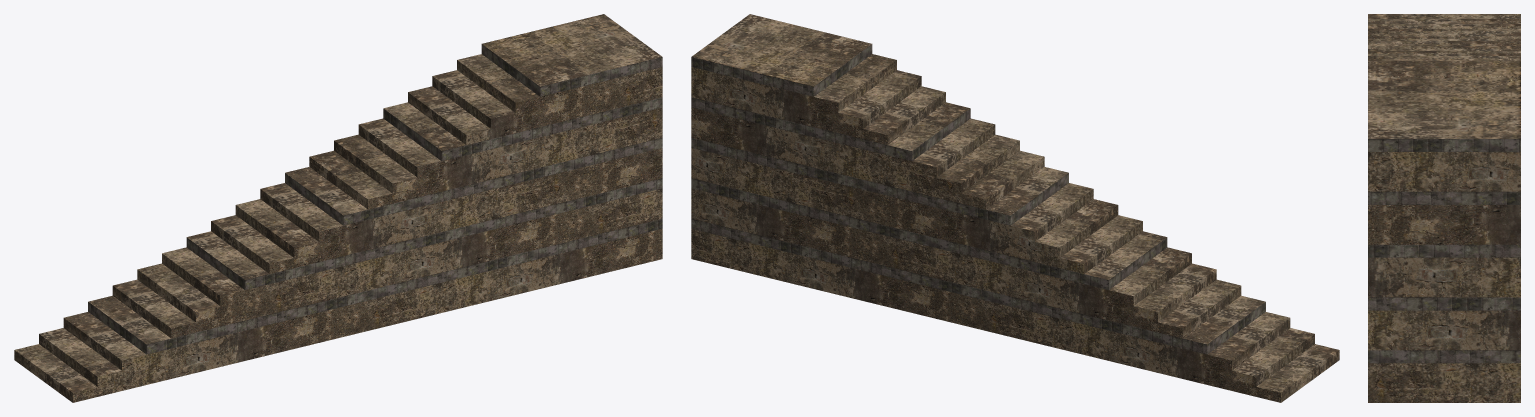
Rendered from materials_5_stairblock_1.fbx.
3 renders of one model, left to right at view 1: azimuth 30°, elevation 25°; view 2: azimuth 150°, elevation 25°; view 3: azimuth 270°, elevation 25°, orthographic. The views are drawn at different scales.
Visible parts, largest first — view 1: materials_5_stairblock_1; view 2: materials_5_stairblock_1; view 3: materials_5_stairblock_1.
Part boxes in pixels (left/top/right/bottom): materials_5_stairblock_1: left=14, top=14, right=662, bottom=402; materials_5_stairblock_1: left=691, top=14, right=1339, bottom=402; materials_5_stairblock_1: left=1368, top=14, right=1520, bottom=402.
Size of the model in its own units: 875 by 287 by 150.
